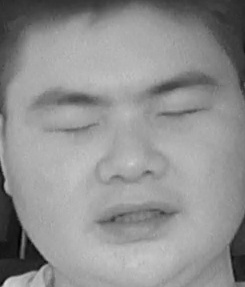blink: (156, 95, 210, 130), (51, 111, 100, 146)
mouth: (96, 192, 181, 243)
